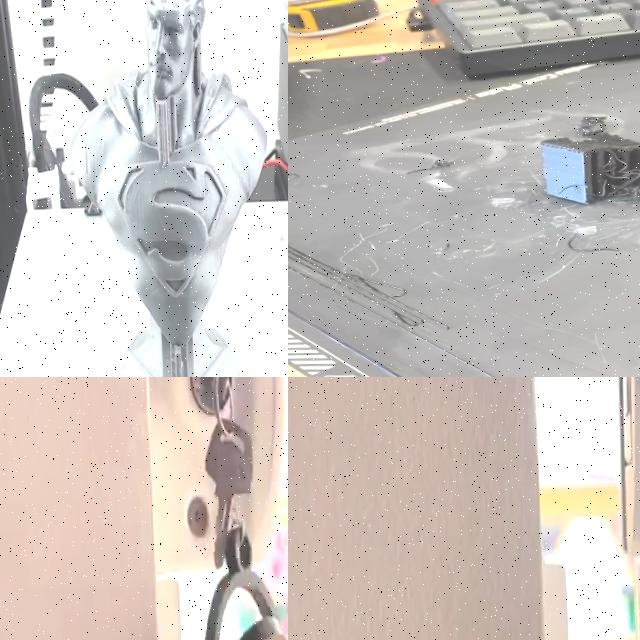spaghetti: (551, 0, 640, 213)
